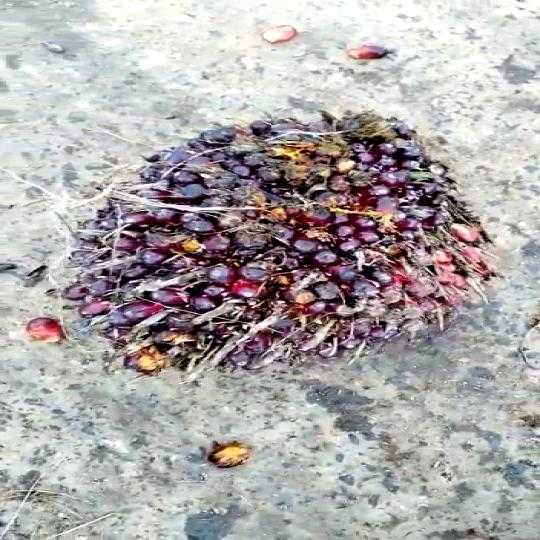masak: (63, 105, 500, 377)
